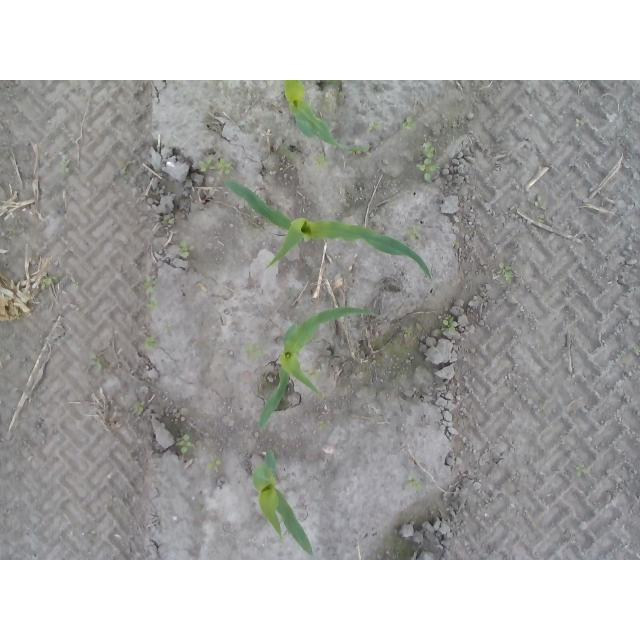Maize: (224, 179, 432, 282), (258, 308, 370, 429), (251, 448, 313, 561), (284, 80, 369, 153)
Weeds: (415, 142, 440, 182), (199, 156, 234, 176), (144, 274, 160, 310), (312, 153, 333, 172), (175, 434, 194, 455), (177, 239, 196, 258), (88, 351, 104, 370), (443, 314, 458, 330), (408, 478, 423, 493), (206, 455, 222, 469), (403, 114, 416, 131), (248, 346, 264, 359), (406, 228, 422, 241), (57, 160, 71, 173), (146, 338, 159, 350), (575, 462, 586, 476), (504, 270, 515, 282), (316, 419, 329, 429), (42, 277, 54, 287)
